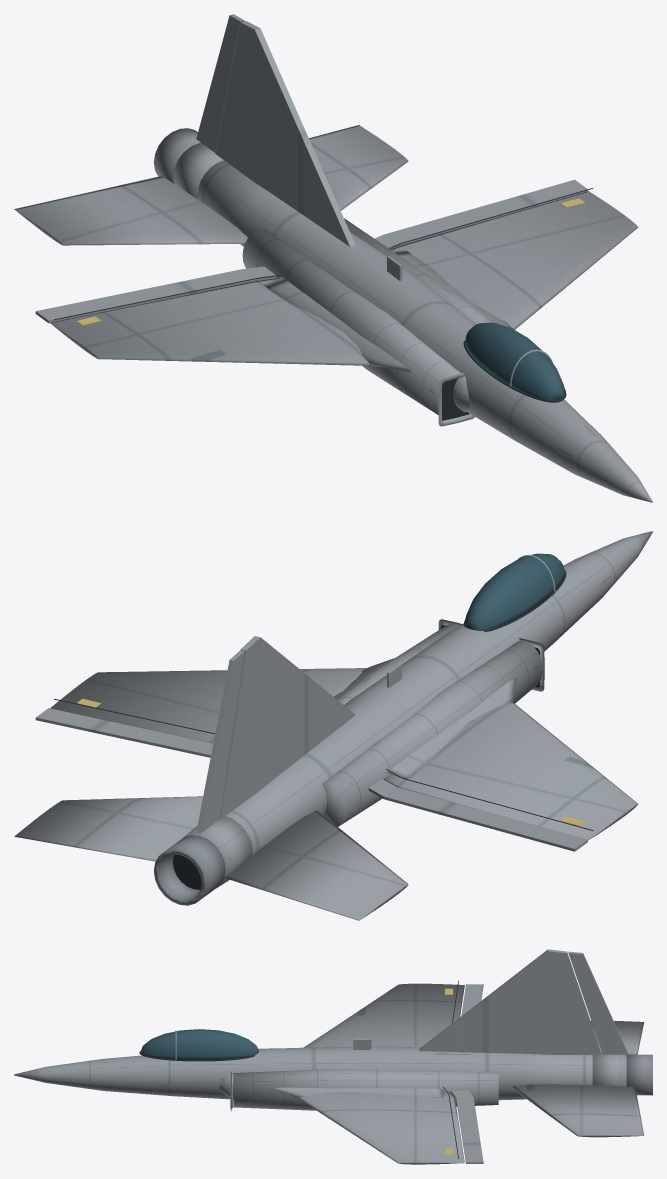
Rendered from jf-17-block-iii.glb.
3 views of the same model, one above another, from view 1: azimuth 30°, elevation 25°; view 2: azimuth 150°, elevation 25°; view 3: azimuth 270°, elevation 25° (orthographic). The views are drawn at different scales.
Parts seen in each view (by area): view 1: airframe_static, tailplane_L, canopy, tailplane_R, elevon_L, elevon_R, rudder_1; view 2: airframe_static, tailplane_L, tailplane_R, canopy, elevon_L, rudder_1, elevon_R; view 3: airframe_static, tailplane_R, canopy, rudder_1, elevon_R, tailplane_L, elevon_L.
Boxes of the visible parts, <box> form: airframe_static: <box>50,21,652,502</box>; tailplane_L: <box>14,176,247,245</box>; canopy: <box>463,322,566,402</box>; tailplane_R: <box>309,125,408,210</box>; elevon_L: <box>35,266,276,323</box>; elevon_R: <box>374,179,587,248</box>; rudder_1: <box>196,14,244,152</box>; airframe_static: <box>50,531,652,905</box>; tailplane_L: <box>225,810,408,920</box>; tailplane_R: <box>14,796,202,861</box>; canopy: <box>463,553,566,631</box>; elevon_L: <box>368,779,587,851</box>; rudder_1: <box>196,650,244,833</box>; elevon_R: <box>35,708,213,757</box>; airframe_static: <box>14,949,652,1164</box>; tailplane_R: <box>510,1084,644,1137</box>; canopy: <box>139,1029,258,1061</box>; rudder_1: <box>568,951,628,1054</box>; elevon_R: <box>451,1090,483,1163</box>; tailplane_L: <box>590,1021,644,1054</box>; elevon_L: <box>461,984,483,1015</box>.
Bounding box in the file's own units: 9.44 × 3.72 × 14.32.
5 materials, 1 textured.
